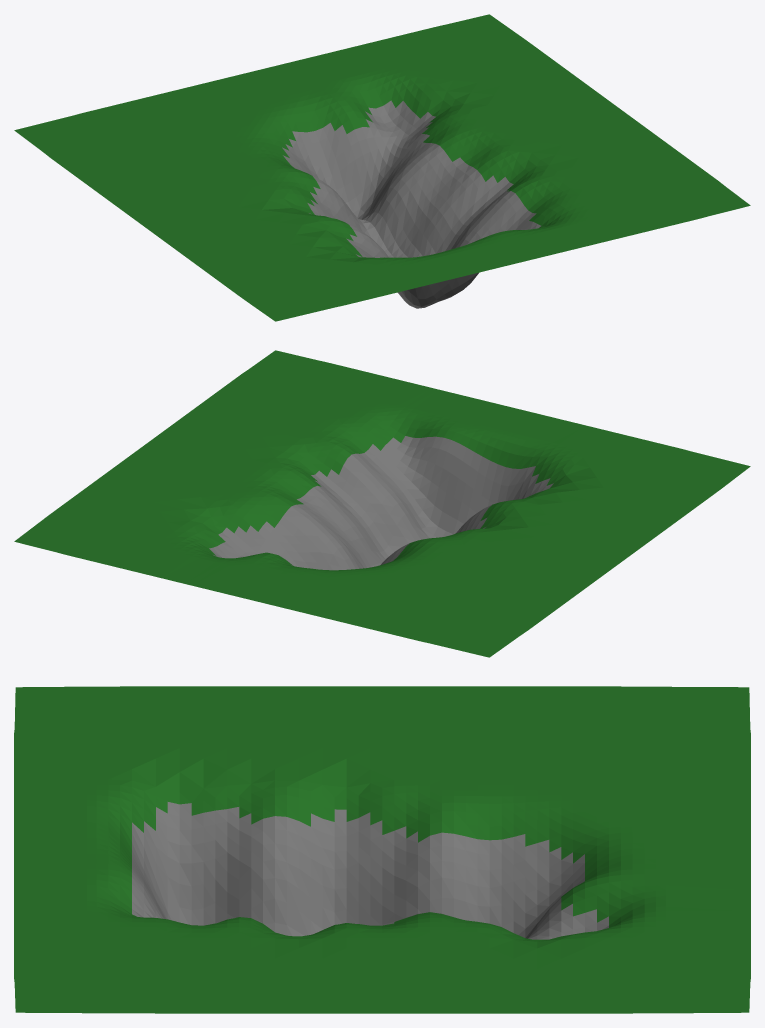
The model's file is terrain.glb.
3 views of the same model, one above another, from view 1: azimuth 30°, elevation 25°; view 2: azimuth 150°, elevation 25°; view 3: azimuth 270°, elevation 25° (orthographic). The views are drawn at different scales.
Parts seen in each view (by area): view 1: Surface, Crater; view 2: Surface, Crater; view 3: Surface, Crater.
Part boxes in pixels (bbox=[...]): Surface: bbox=[14, 14, 750, 321]; Crater: bbox=[282, 100, 540, 308]; Surface: bbox=[14, 350, 750, 657]; Crater: bbox=[209, 436, 553, 570]; Surface: bbox=[14, 686, 750, 1013]; Crater: bbox=[132, 802, 608, 939].
Bounding box in the file's own units: 574 × 99.98 × 547.
